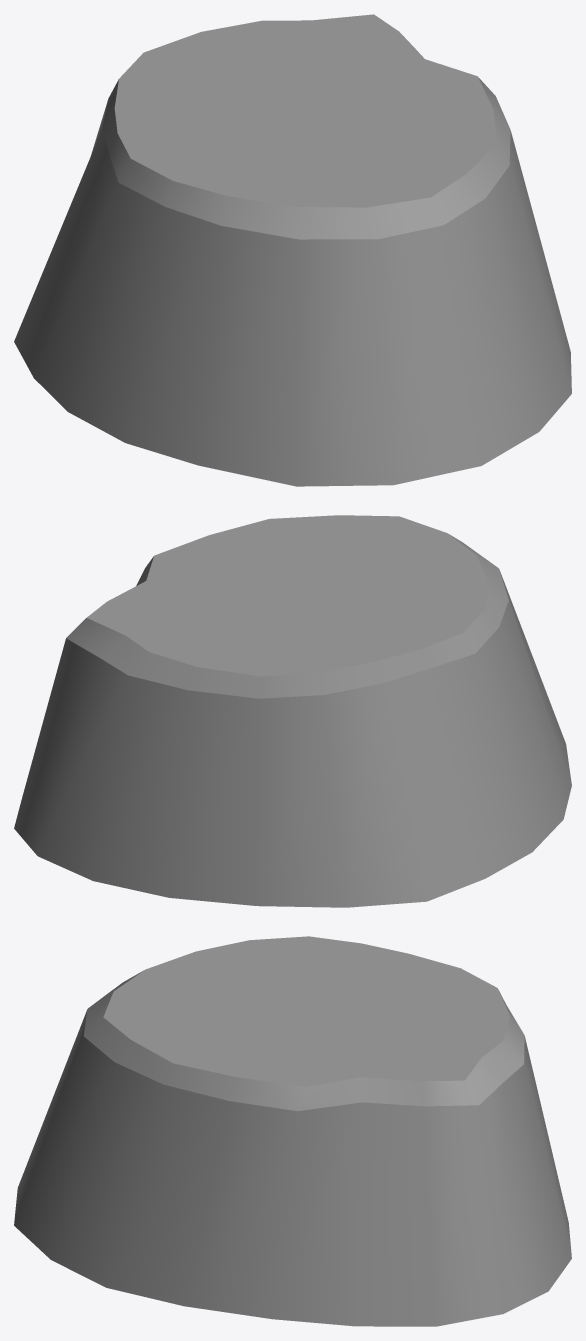
File: Construction_Rock.fbx
3 views of the same model, one above another, from view 1: azimuth 30°, elevation 25°; view 2: azimuth 150°, elevation 25°; view 3: azimuth 270°, elevation 25° (orthographic). The views are drawn at different scales.
Parts seen in each view (by area): view 1: Construction_Rock; view 2: Construction_Rock; view 3: Construction_Rock.
Part boxes in pixels (bbox=[...]): Construction_Rock: bbox=[14, 14, 571, 486]; Construction_Rock: bbox=[14, 515, 571, 907]; Construction_Rock: bbox=[14, 936, 571, 1326].
Size of the model in its own units: 0.8486 by 0.3869 by 0.9402.
1 material, 1 textured.
